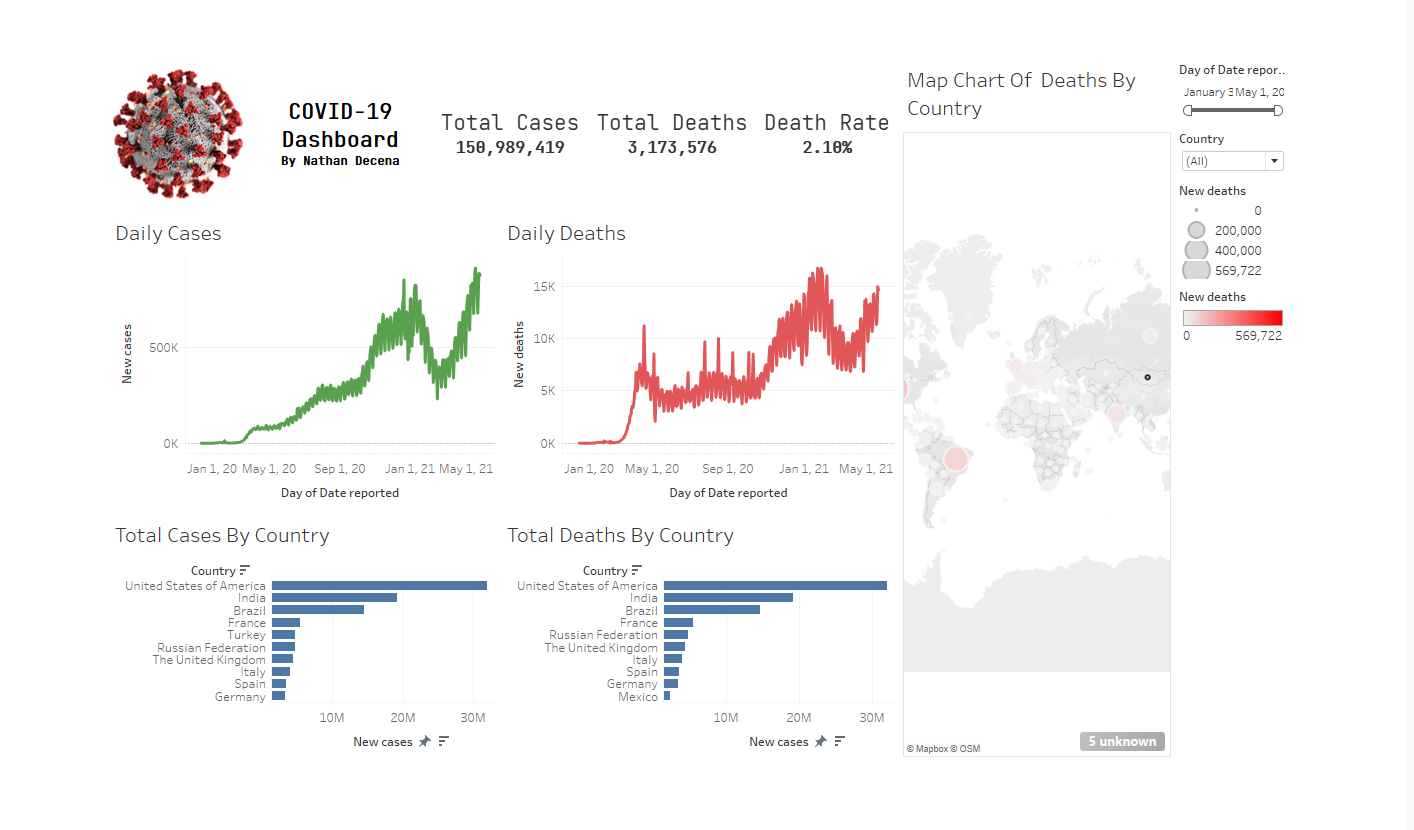

Layout of this report page (visuals, bound fields, positions):
{"tool":"tableau","page":{"name":"Dashboard 1","canvas":[1200,720],"ordinal":0},"visuals":[{"type":"image","param":"C:/Users/natha/Downloads/coronavirus_PNG93658.png","box":[8,8,141,153]},{"type":"text","box":[149,8,184,153]},{"type":"worksheet","title":"Total Cases","mark":"Automatic","box":[333,8,156,153]},{"type":"worksheet","title":"Total Deaths","mark":"Automatic","box":[489,8,167,153]},{"type":"worksheet","title":"Death Rate","mark":"Automatic","box":[656,8,144,153]},{"type":"worksheet","title":"Map Chart Of  Deaths By Country","mark":"Automatic","box":[800,8,275.5,704]},{"type":"filter","title":"Daily Cases","param":"[federated.1r8eyz11q7jw9q16lb9bl0dnayd7].[tdy:Date_reported:qk]","box":[1075.5,8,116.5,69]},{"type":"filter","title":"Map Chart Of  Deaths By Country","param":"[federated.1r8eyz11q7jw9q16lb9bl0dnayd7].[none:Country:nk]","box":[1075.5,77,116.5,52]},{"type":"legend","title":"Map Chart Of  Deaths By Country","param":"[federated.1r8eyz11q7jw9q16lb9bl0dnayd7].[sum:New_deaths:qk]","box":[1075.5,129,116.5,106]},{"type":"worksheet","title":"Daily Cases","mark":"Automatic","rows":["New_cases"],"cols":["Date_reported"],"box":[8,161,392,302]},{"type":"worksheet","title":"Daily Deaths","mark":"Automatic","rows":["New_deaths"],"cols":["Date_reported"],"box":[400,161,400,302]},{"type":"legend","title":"Map Chart Of  Deaths By Country","param":"[federated.1r8eyz11q7jw9q16lb9bl0dnayd7].[sum:New_deaths:qk]","box":[1075.5,235,116.5,65]},{"type":"worksheet","title":"Total Cases By Country","mark":"Automatic","rows":["Country"],"cols":["New_cases"],"box":[8,463,392,249]},{"type":"worksheet","title":"Total Deaths By Country","mark":"Automatic","rows":["Country"],"cols":["New_cases"],"box":[400,463,400,249]}]}

Visuals, with their boxes in screenshot pixels (x1, y1, x2, y2), scaled from the page's 1200x720 canvas onto the 1414x830 screenshot:
image: (left=9, top=9, right=176, bottom=186)
text: (left=176, top=9, right=392, bottom=186)
"Total Cases" worksheet: (left=392, top=9, right=576, bottom=186)
"Total Deaths" worksheet: (left=576, top=9, right=773, bottom=186)
"Death Rate" worksheet: (left=773, top=9, right=943, bottom=186)
"Map Chart Of  Deaths By Country" worksheet: (left=943, top=9, right=1267, bottom=821)
"Daily Cases" filter: (left=1267, top=9, right=1405, bottom=89)
"Map Chart Of  Deaths By Country" filter: (left=1267, top=89, right=1405, bottom=149)
"Map Chart Of  Deaths By Country" legend: (left=1267, top=149, right=1405, bottom=271)
"Daily Cases" worksheet: (left=9, top=186, right=471, bottom=534)
"Daily Deaths" worksheet: (left=471, top=186, right=943, bottom=534)
"Map Chart Of  Deaths By Country" legend: (left=1267, top=271, right=1405, bottom=346)
"Total Cases By Country" worksheet: (left=9, top=534, right=471, bottom=821)
"Total Deaths By Country" worksheet: (left=471, top=534, right=943, bottom=821)
